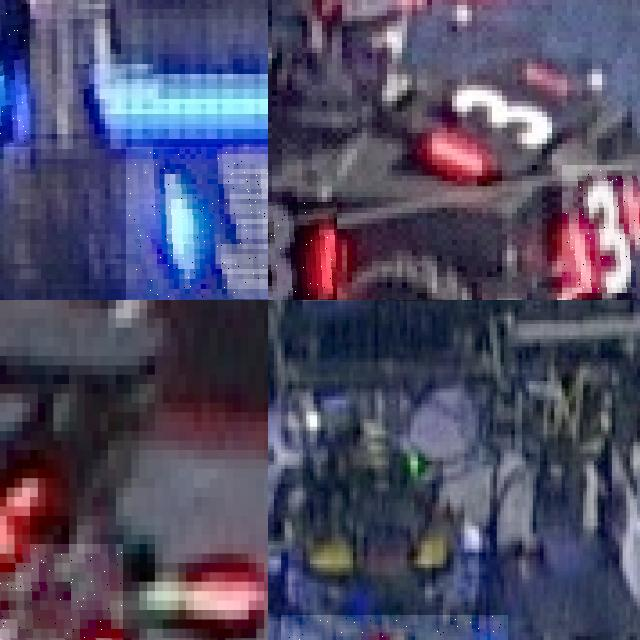B1: (281, 615, 507, 640)
B3: (126, 146, 268, 300), (0, 0, 30, 146)
R3: (562, 165, 640, 293), (268, 202, 337, 300)
